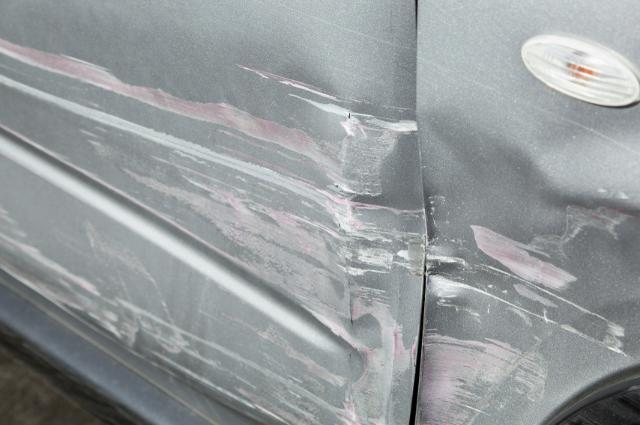Door: (0, 115, 417, 348)
Fender: (425, 189, 555, 420)
